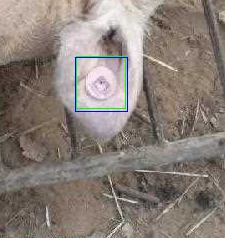text: (76, 56, 125, 108)
